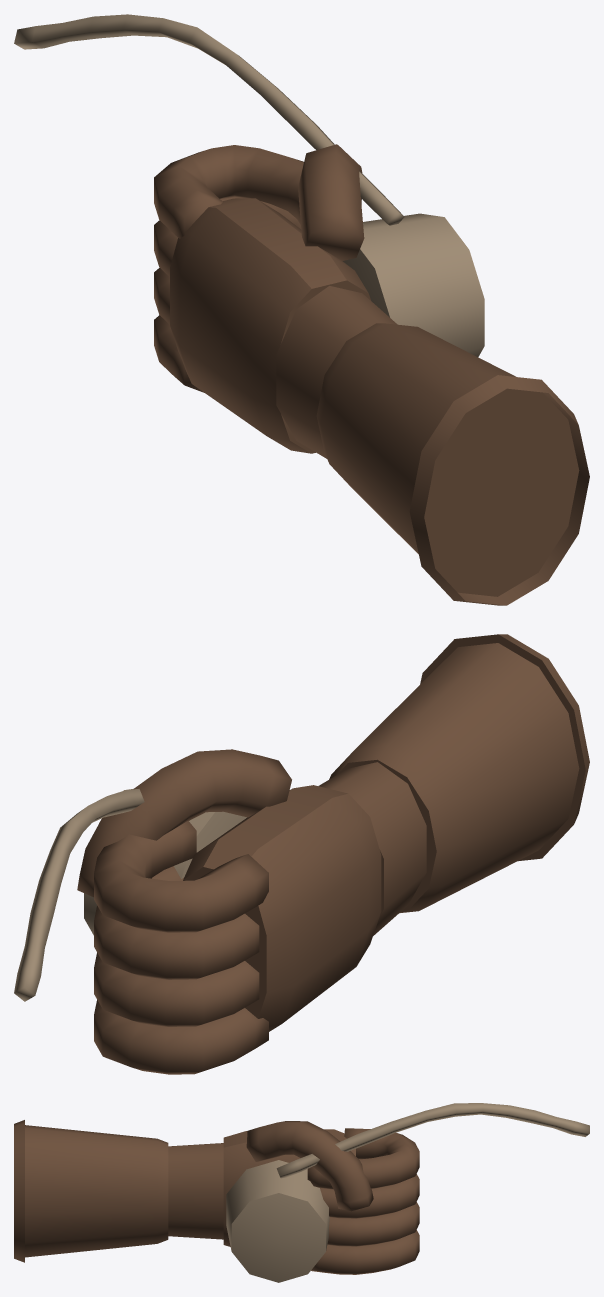
File: sling-glove.glb
The picture shows the model from 3 angles, top to bottom: view 1: azimuth 30°, elevation 25°; view 2: azimuth 150°, elevation 25°; view 3: azimuth 270°, elevation 25°; orthographic projection. The views are drawn at different scales.
Parts seen in each view (by area): view 1: sling-glove; view 2: sling-glove; view 3: sling-glove.
Boxes of the visible parts, <box> form: sling-glove: <box>14,14,589,605</box>; sling-glove: <box>14,634,589,1074</box>; sling-glove: <box>14,1103,589,1282</box>.
Size of the model in its own units: 0.1644 by 0.1745 by 0.5221.
